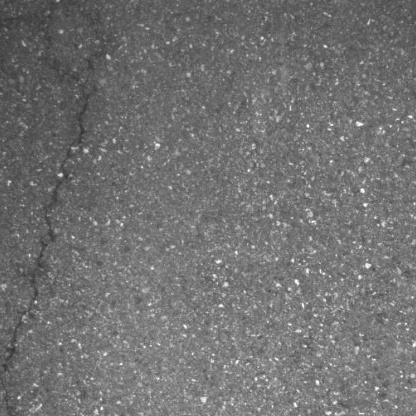Cracks: (0, 88, 92, 416)
